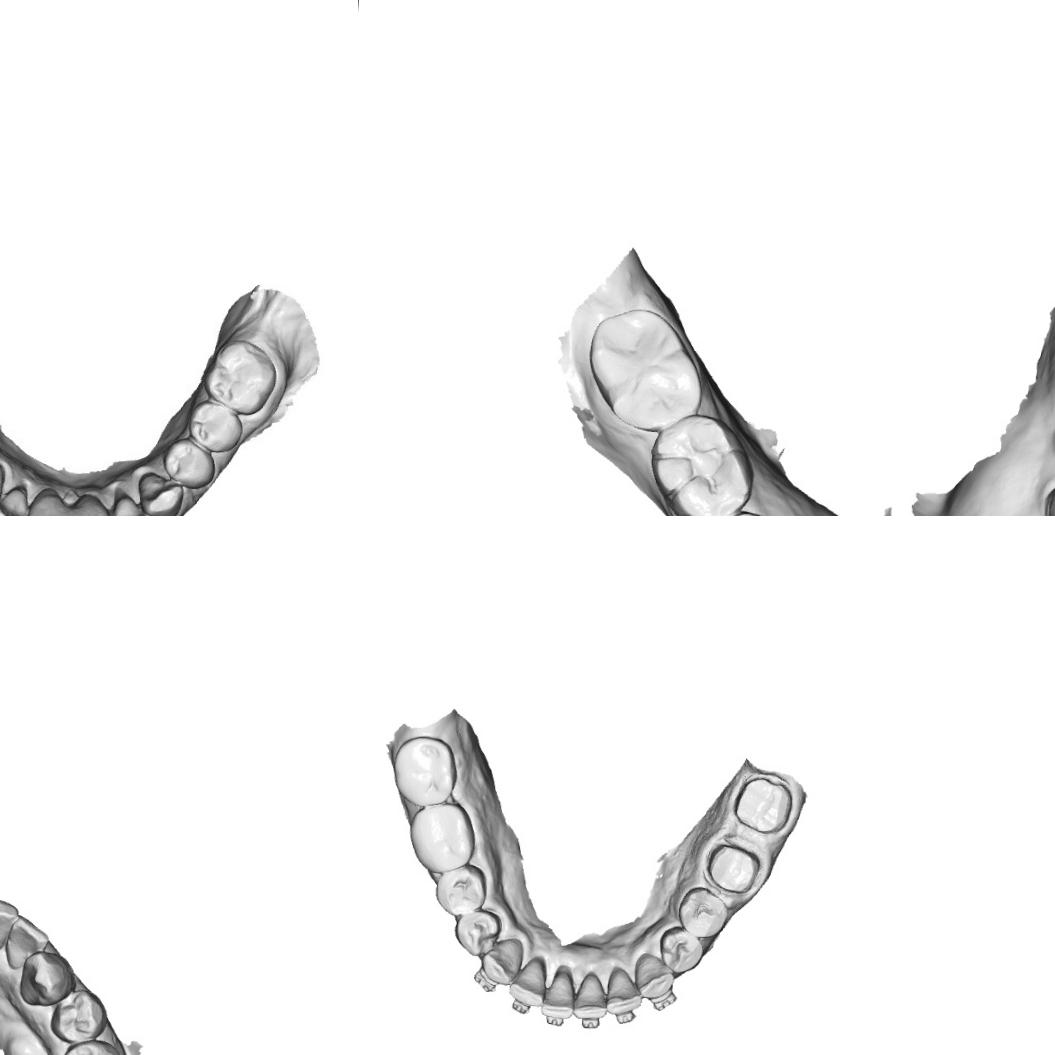canine: (17, 948, 75, 1008), (135, 470, 184, 516), (479, 936, 523, 986), (633, 950, 675, 1001)
crown: (728, 771, 795, 838), (702, 837, 764, 899)
incisor: (3, 914, 50, 971), (506, 955, 546, 1007), (605, 965, 643, 1016), (540, 968, 575, 1019), (572, 970, 608, 1019), (20, 485, 59, 516), (0, 897, 19, 951), (109, 493, 152, 516), (0, 484, 29, 516), (76, 493, 116, 516), (54, 505, 80, 516)
molar: (582, 302, 706, 433), (645, 407, 760, 516), (201, 336, 278, 417), (406, 798, 477, 875), (390, 734, 458, 808)
premolar: (47, 986, 110, 1046), (186, 398, 243, 453), (433, 861, 488, 918), (160, 436, 217, 489), (676, 884, 728, 939), (452, 907, 502, 957), (657, 924, 705, 975), (56, 1036, 121, 1055)
